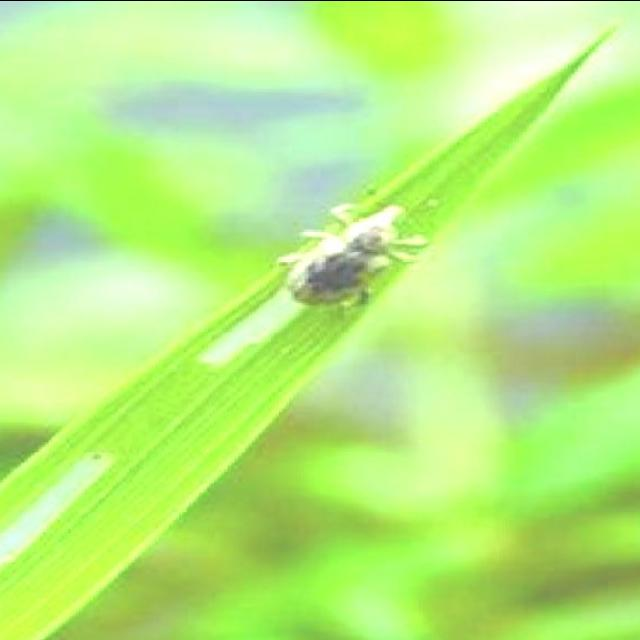ricebug: (280, 203, 427, 304)
